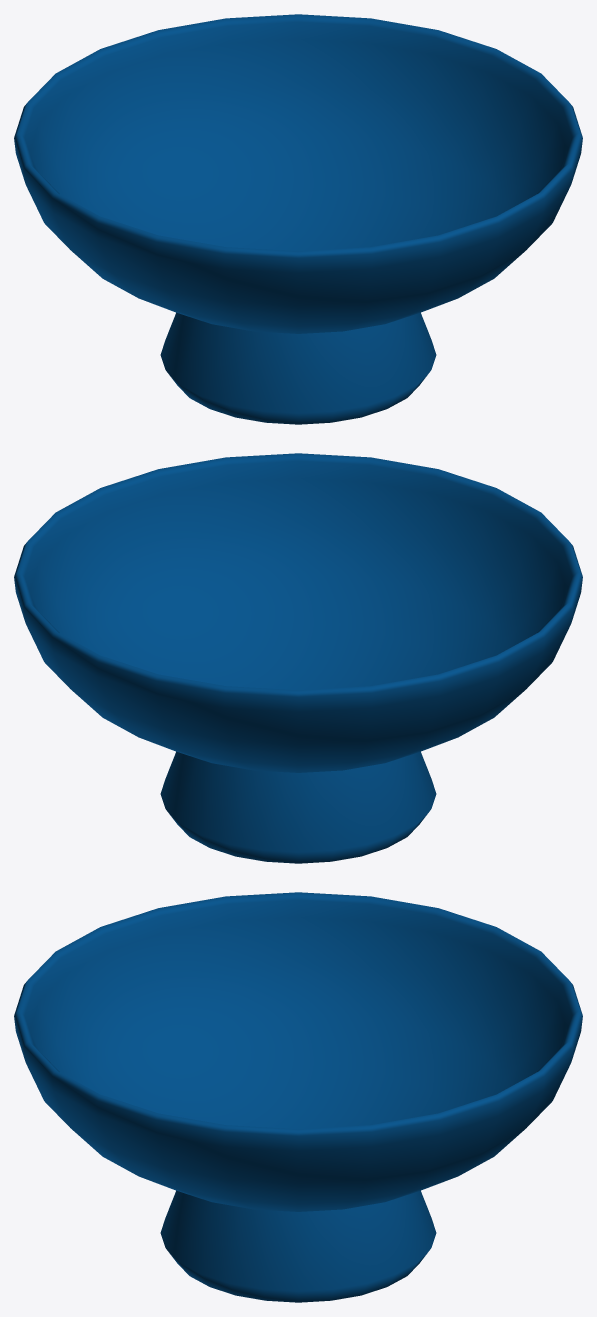
Rendered from Jar_06.fbx.
The picture shows the model from 3 angles, top to bottom: view 1: azimuth 30°, elevation 25°; view 2: azimuth 150°, elevation 25°; view 3: azimuth 270°, elevation 25°; orthographic projection.
Parts seen in each view (by area): view 1: Jar_06; view 2: Jar_06; view 3: Jar_06.
Boxes of the visible parts, bbox=[...] form: Jar_06: bbox=[14, 14, 582, 424]; Jar_06: bbox=[14, 453, 582, 863]; Jar_06: bbox=[14, 892, 582, 1302].
Bounding box in the file's own units: 26.52 × 12.28 × 26.52.
